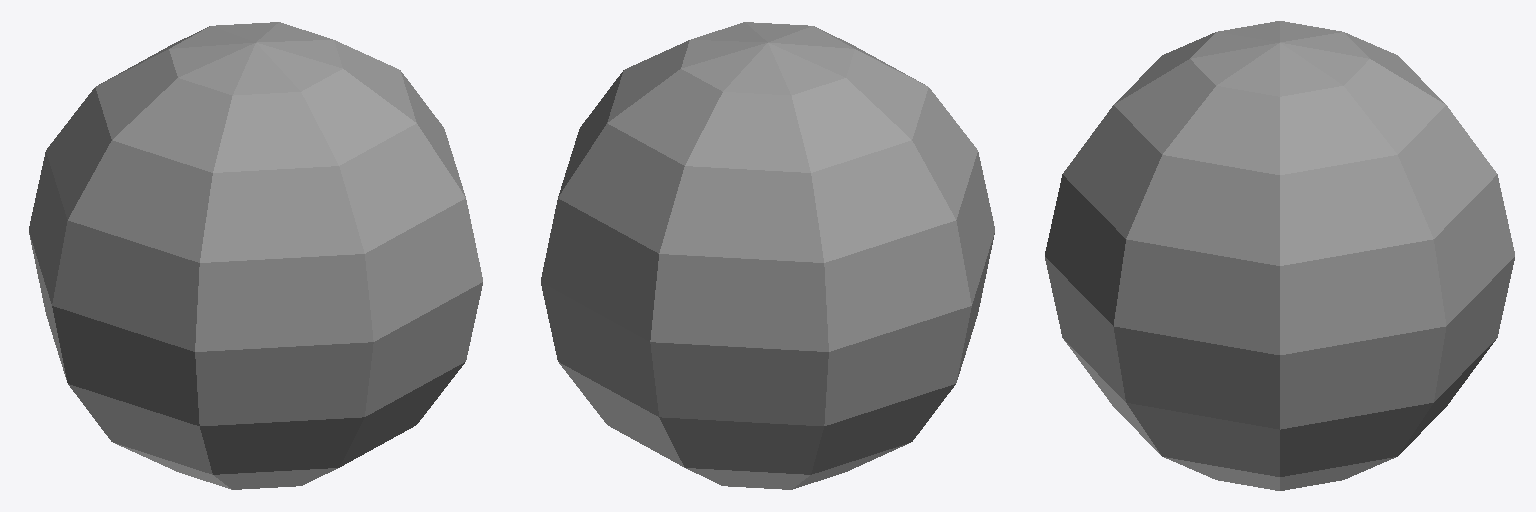
File: squash_1.obj
3 views of the same model, side by side, from view 1: azimuth 30°, elevation 25°; view 2: azimuth 150°, elevation 25°; view 3: azimuth 270°, elevation 25° (orthographic).
Parts seen in each view (by area): view 1: Sphere_Sphere.002; view 2: Sphere_Sphere.002; view 3: Sphere_Sphere.002.
Boxes of the visible parts, x1,y1,x2,y2 form: Sphere_Sphere.002: [29, 22, 482, 489]; Sphere_Sphere.002: [541, 22, 994, 489]; Sphere_Sphere.002: [1045, 21, 1514, 490].
Bounding box in the file's own units: 2 × 2 × 2.